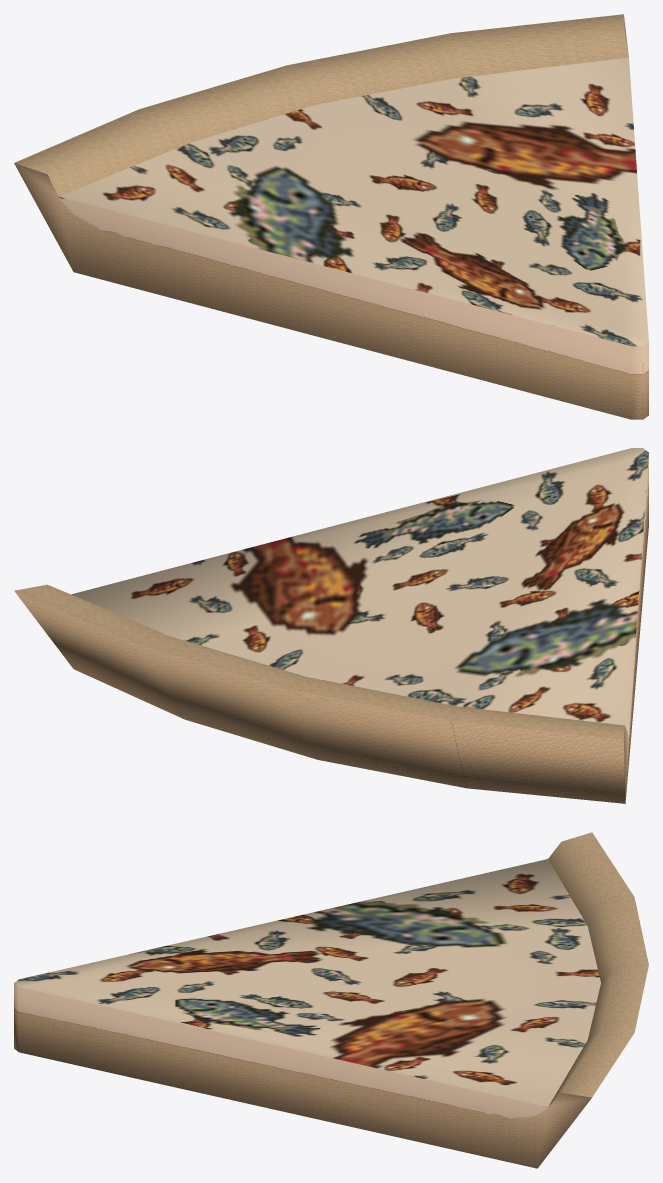
The model's file is WorldItem_PizzaSeafoodSlice.fbx.
The picture shows the model from 3 angles, top to bottom: view 1: azimuth 30°, elevation 25°; view 2: azimuth 150°, elevation 25°; view 3: azimuth 270°, elevation 25°; orthographic projection. The views are drawn at different scales.
Visible parts, largest first — view 1: Pie_Lemonmeringue001; view 2: Pie_Lemonmeringue001; view 3: Pie_Lemonmeringue001.
Part boxes in pixels (bbox=[...]): Pie_Lemonmeringue001: bbox=[14, 14, 648, 419]; Pie_Lemonmeringue001: bbox=[14, 448, 648, 803]; Pie_Lemonmeringue001: bbox=[14, 832, 648, 1168].
Size of the model in its own units: 22.09 by 3.25 by 22.34.
